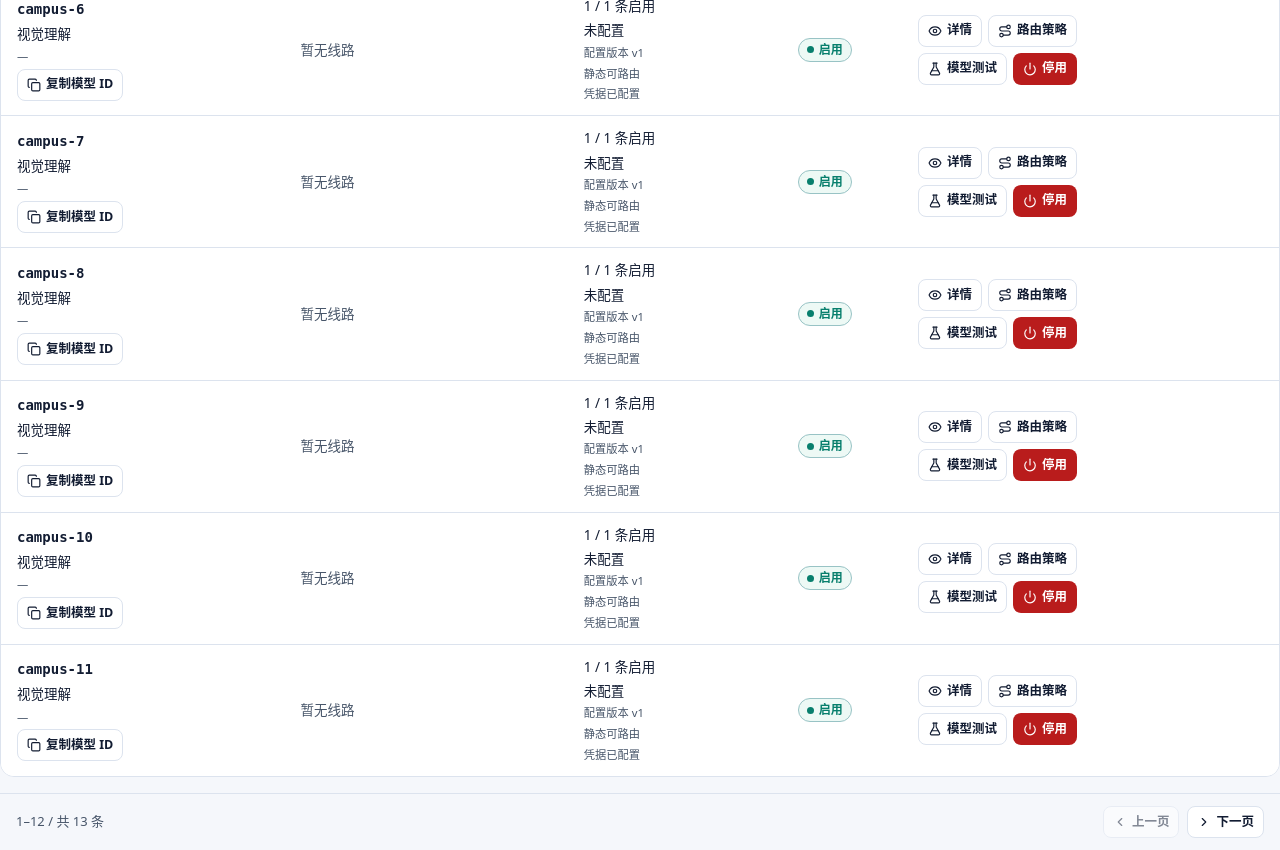
Test case: PublishedModelsPage › paginates the complete collection and resets to the first page when searching
The width and height of the screenshot is (1280, 850).
(page scrolled)
Expected: the text "campus-12" is not shown
Step 1. Click the button "下一页" → (1226, 822), box x1=1188 y1=806 x2=1264 y2=838
(page scrolled)
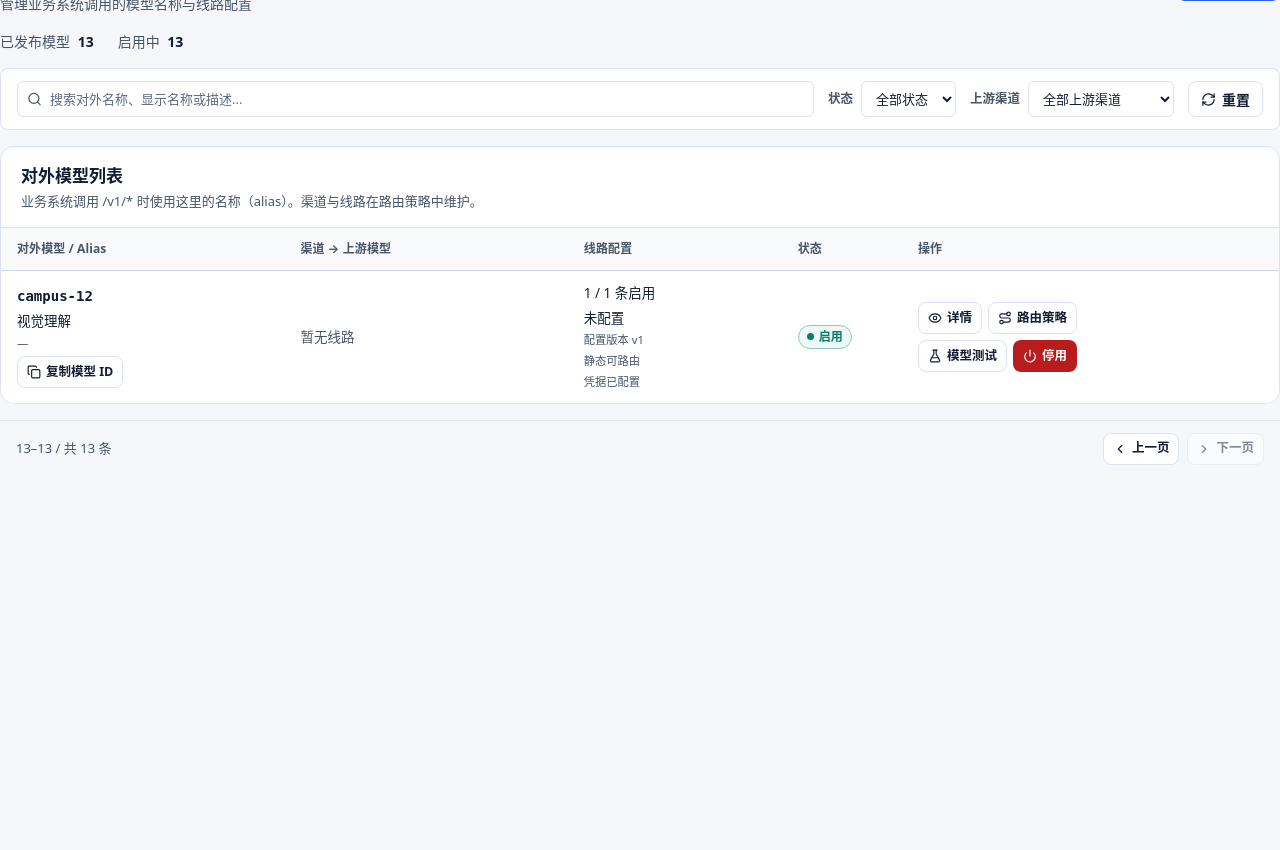
Expected: the text "campus-12" is shown, x1=17 y1=286 x2=93 y2=307
Step 2. Type "campus-0" into the field with placeholder "搜索对外名称、显示名称或描述..." → (416, 99), box x1=17 y1=81 x2=814 y2=117
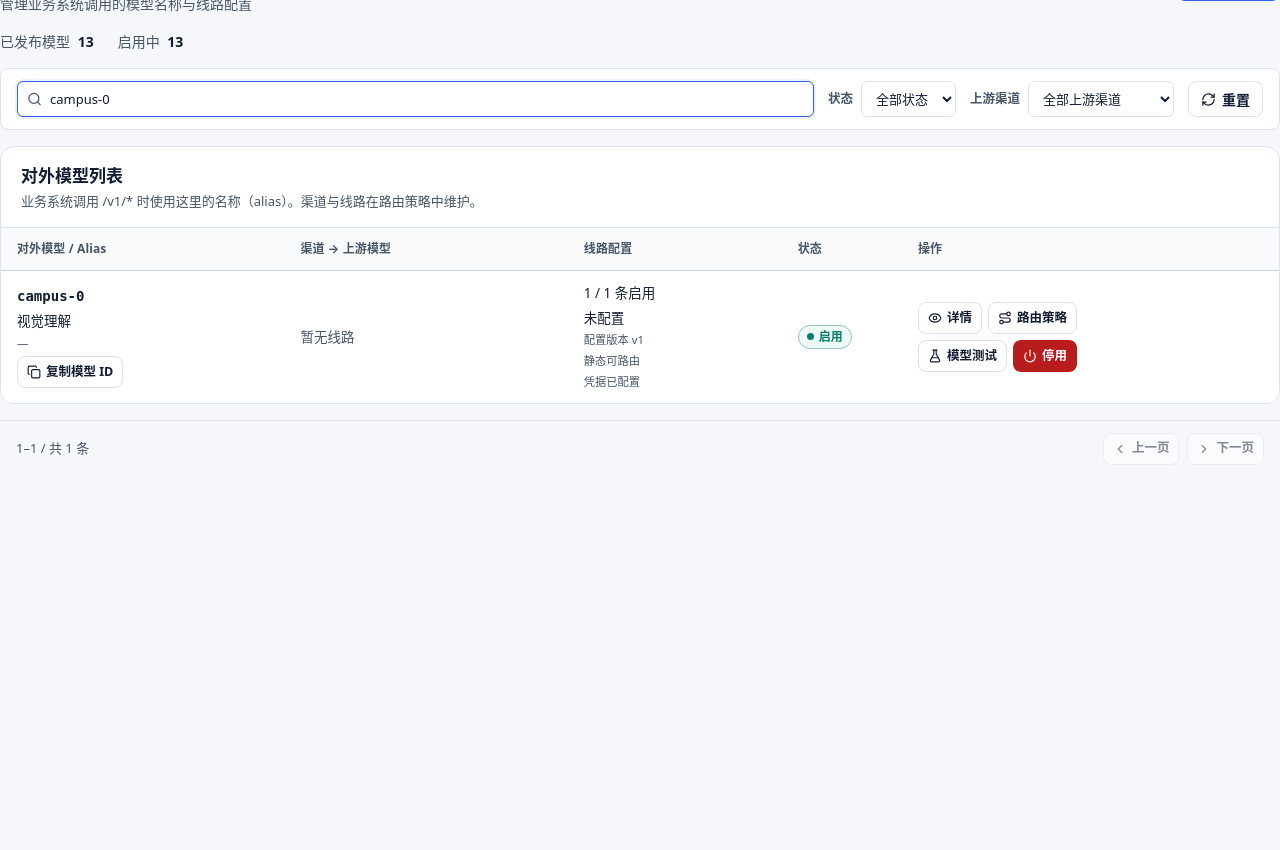
Expected: the text "campus-0" is shown, x1=17 y1=286 x2=84 y2=307
Expected: the button "上一页" is disabled, x1=1103 y1=432 x2=1180 y2=464
